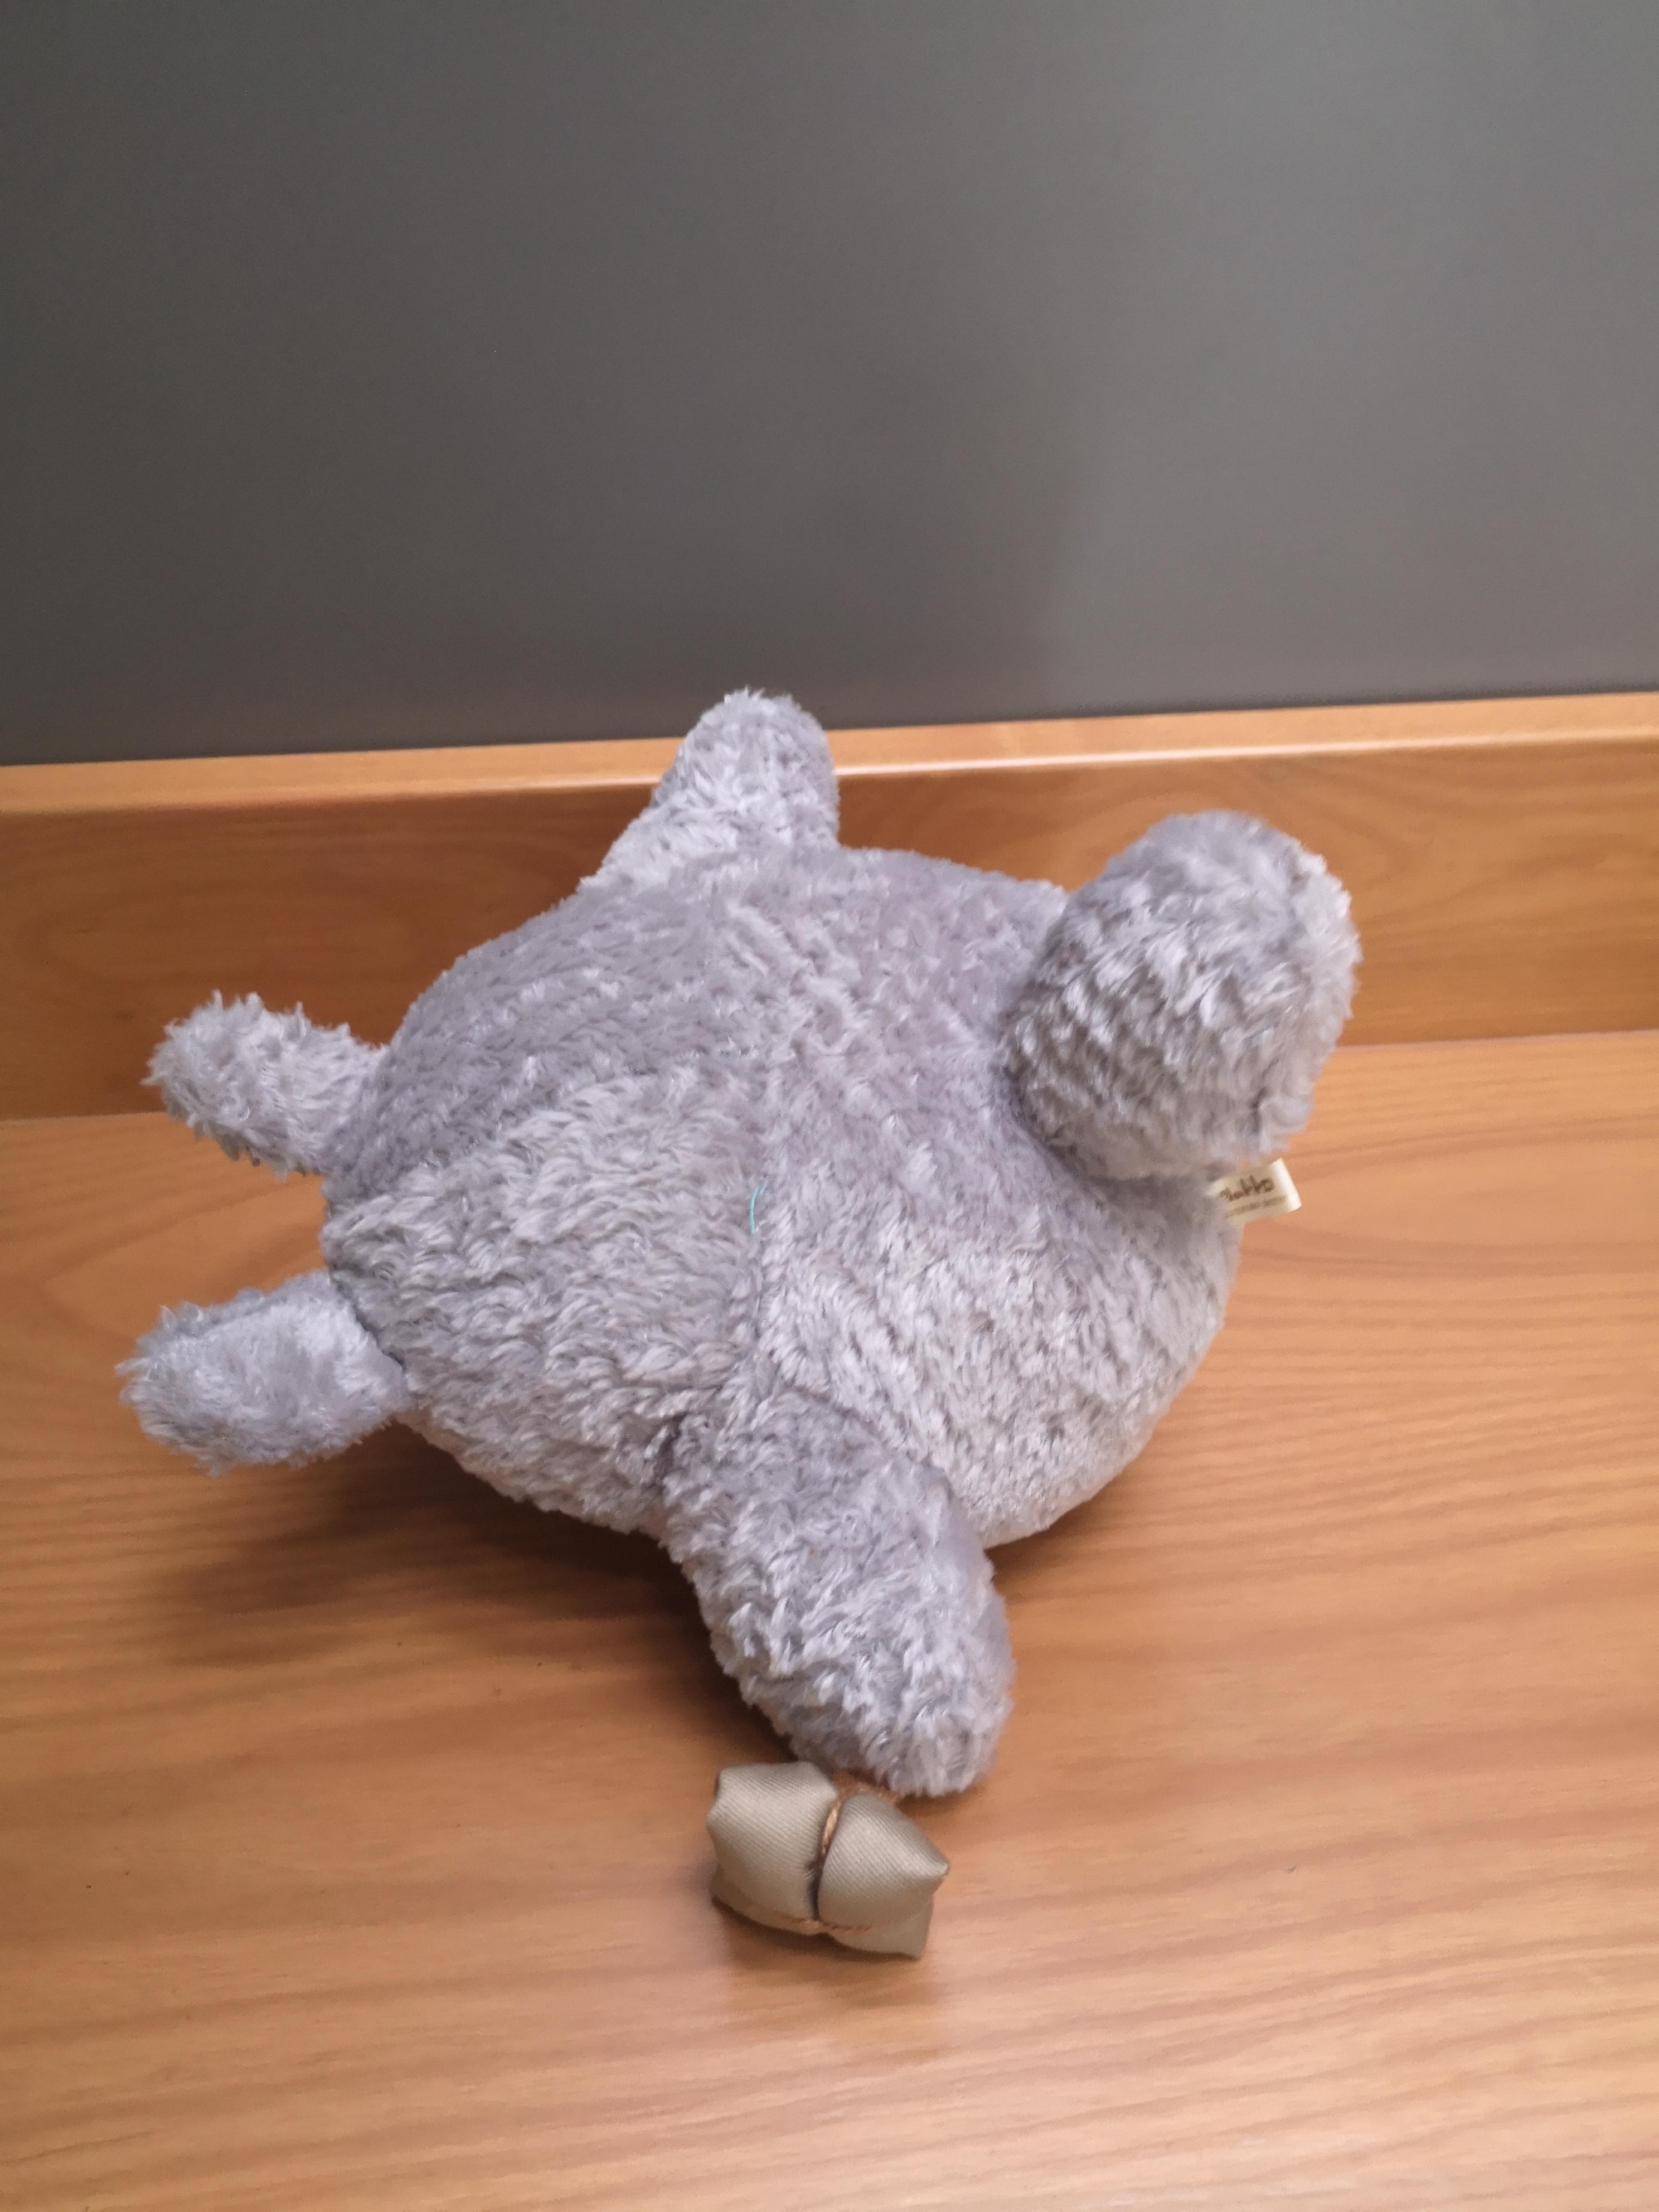totoro: (105, 674, 1370, 1975)
